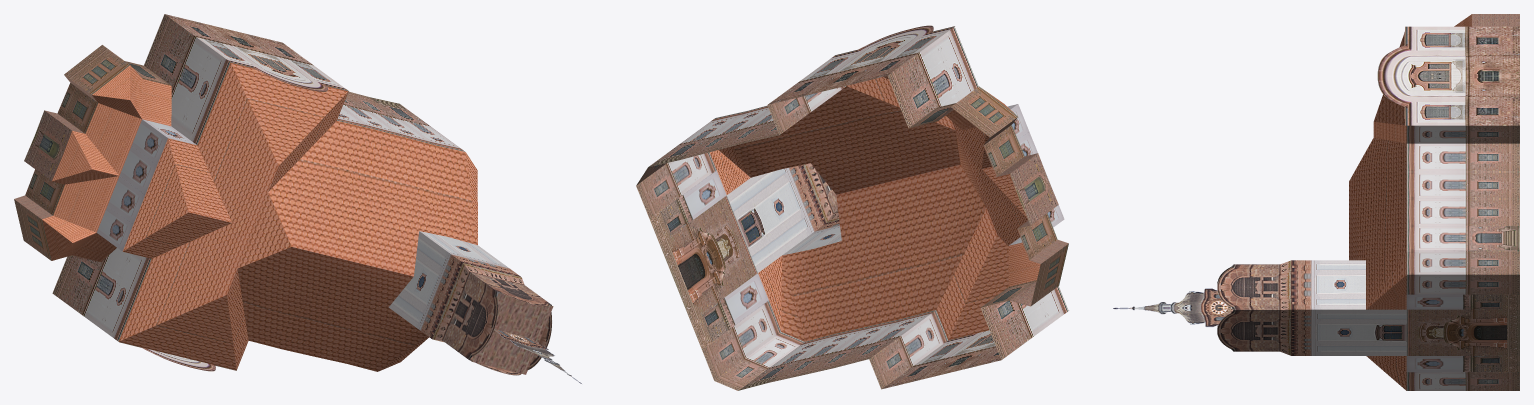
The model's file is DEU_595_KARLSRUHE_AUFERST_L.OBJ.
3 renders of one model, left to right at view 1: azimuth 30°, elevation 25°; view 2: azimuth 150°, elevation 25°; view 3: azimuth 270°, elevation 25°, orthographic. The views are drawn at different scales.
Parts seen in each view (by area): view 1: DEU_595_KARLSRUHE_AUFERST_L_DEU_595_KARLSRUHE_AUFERST; view 2: DEU_595_KARLSRUHE_AUFERST_L_DEU_595_KARLSRUHE_AUFERST; view 3: DEU_595_KARLSRUHE_AUFERST_L_DEU_595_KARLSRUHE_AUFERST.
Part boxes in pixels (<box>): DEU_595_KARLSRUHE_AUFERST_L_DEU_595_KARLSRUHE_AUFERST: <box>14,14,581,383</box>; DEU_595_KARLSRUHE_AUFERST_L_DEU_595_KARLSRUHE_AUFERST: <box>636,25,1068,390</box>; DEU_595_KARLSRUHE_AUFERST_L_DEU_595_KARLSRUHE_AUFERST: <box>1113,14,1519,390</box>.
Bounding box in the file's own units: 36.19 × 30.05 × 37.35.
1 material, 1 textured.
